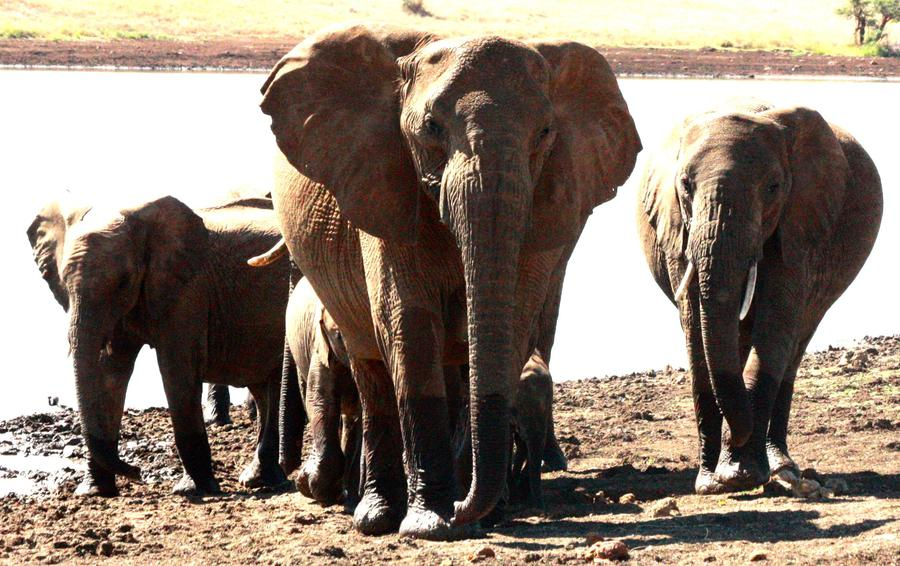elephant: (267, 28, 627, 294), (661, 102, 813, 309), (33, 209, 194, 385)
